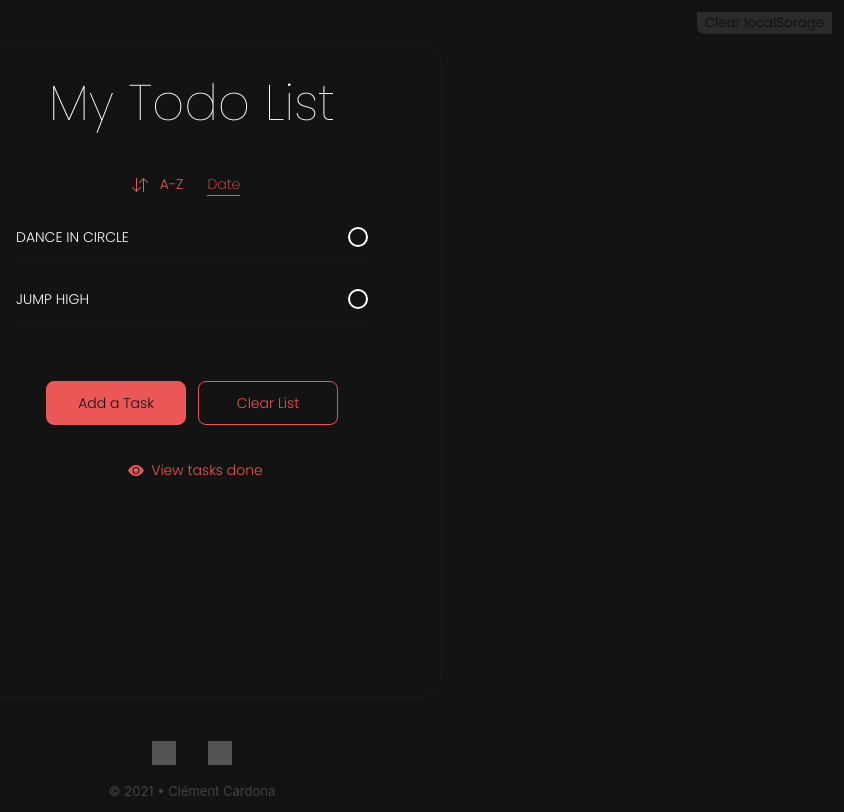
task-done presence after clicking the view tasks done button
Click the button "View tasks done" at (192, 471), box [109, 449, 275, 493]
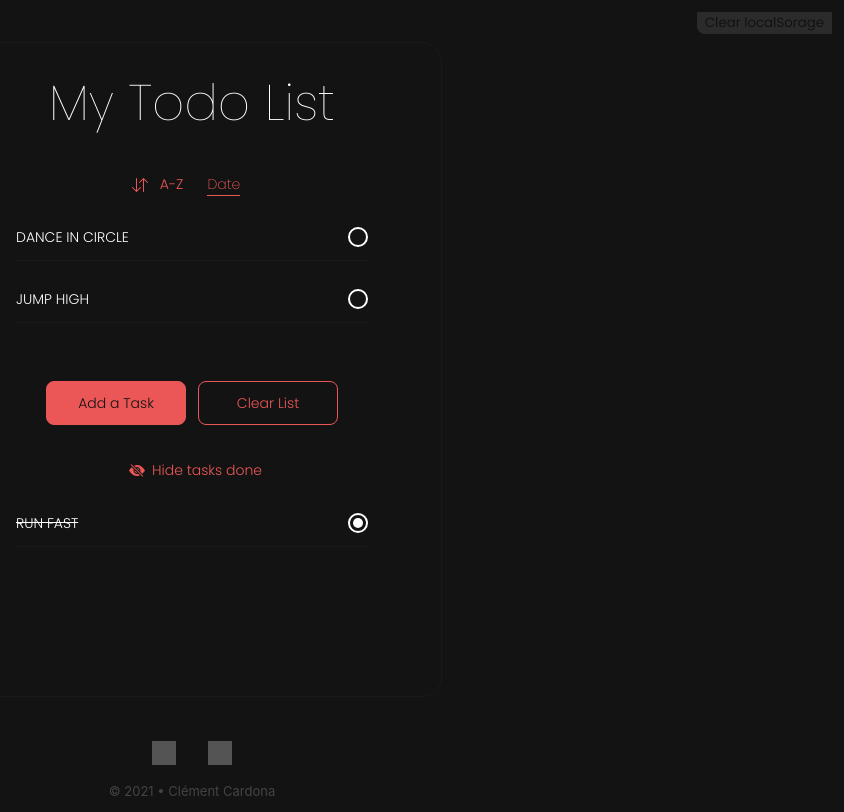
Expected: the heading "run fast" is shown, [16, 513, 78, 534]
